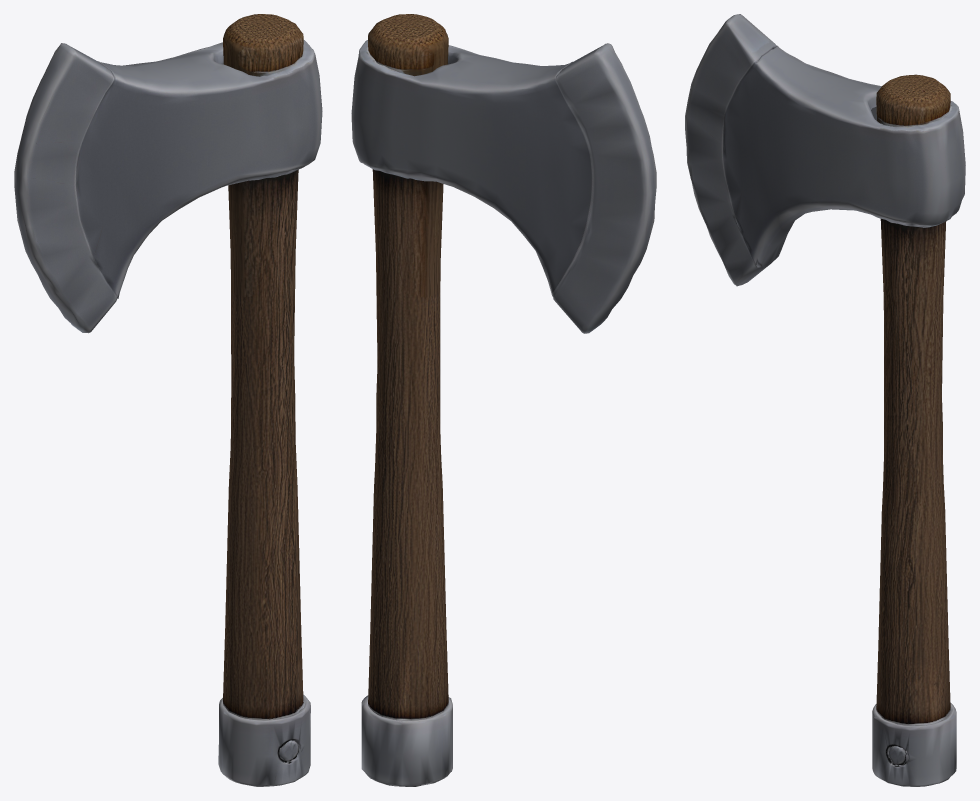
Rendered from axe.glb.
3 views of the same model, side by side, from view 1: azimuth 30°, elevation 25°; view 2: azimuth 150°, elevation 25°; view 3: azimuth 330°, elevation 25° (orthographic). The views are drawn at different scales.
Parts seen in each view (by area): view 1: tripo_node_747b8731-bd78-4960-8fcc-7754ad55b966; view 2: tripo_node_747b8731-bd78-4960-8fcc-7754ad55b966; view 3: tripo_node_747b8731-bd78-4960-8fcc-7754ad55b966.
Boxes of the visible parts, box(x1,y1,x2,y2) form: tripo_node_747b8731-bd78-4960-8fcc-7754ad55b966: box(14, 14, 322, 786); tripo_node_747b8731-bd78-4960-8fcc-7754ad55b966: box(351, 14, 656, 786); tripo_node_747b8731-bd78-4960-8fcc-7754ad55b966: box(685, 14, 965, 786).
Size of the model in its own units: 0.3965 by 0.998 by 0.1113.
Materials: 1 (1 with a texture image).
